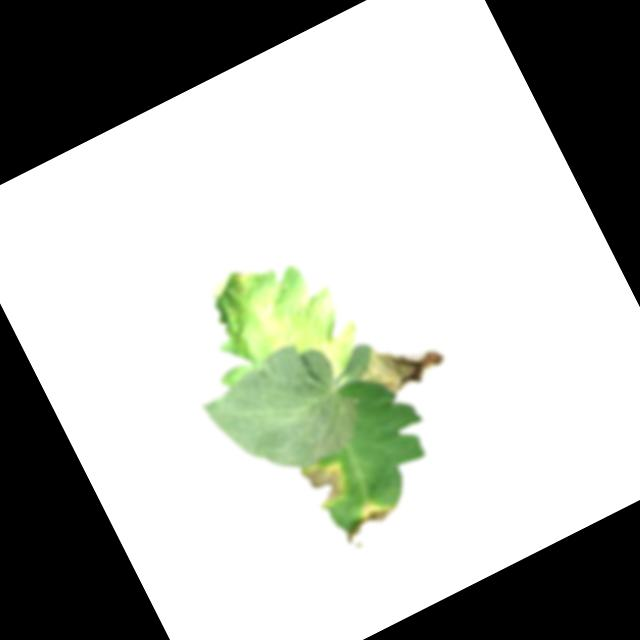Late_blight: (347, 316, 452, 407), (334, 494, 400, 551), (296, 453, 355, 512), (225, 265, 259, 301), (253, 292, 284, 323)
